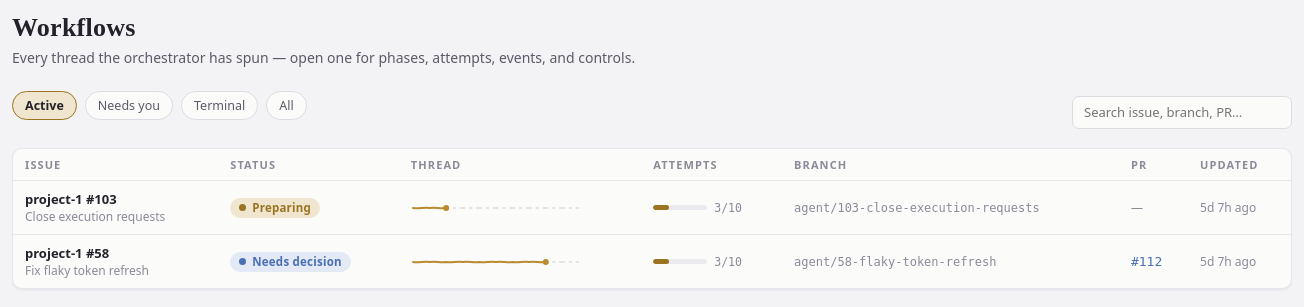
Test: WorkflowsPage › switches filters when a chip is pressed
Click the button with class "chip" showing "Terminal" at (220, 106), box [181,91,258,120]
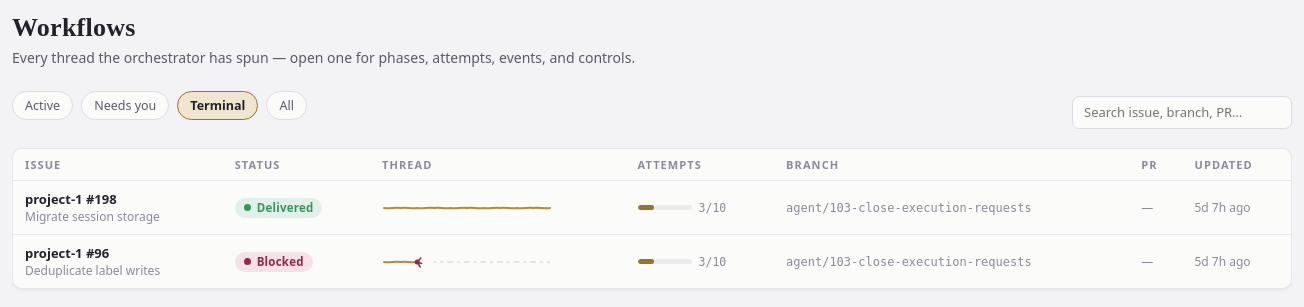
Expected: the text "Migrate session storage" is shown, [25,208,160,225]
